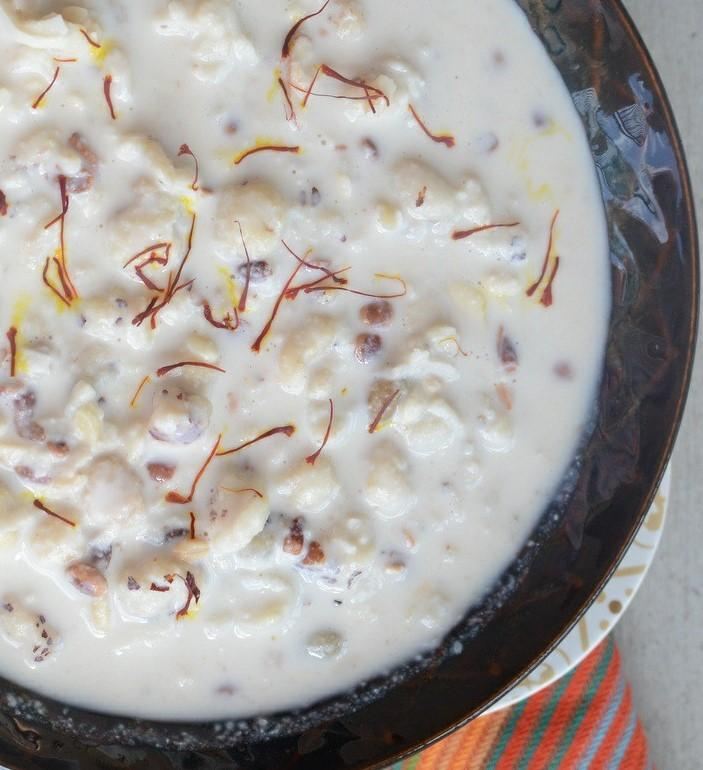Kheer: (0, 0, 618, 722)
